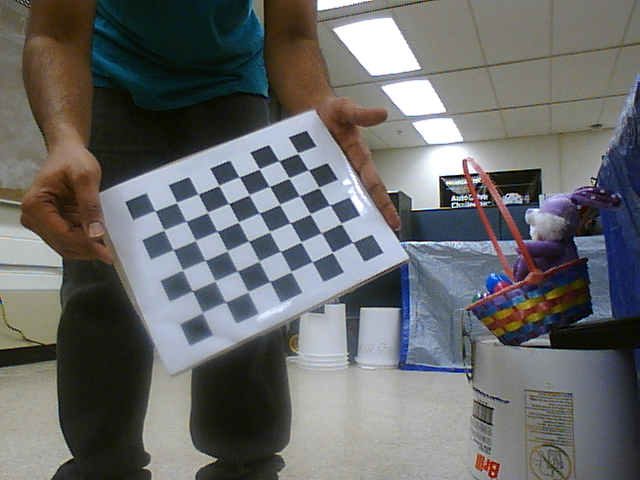bunny: (456, 153, 598, 339)
